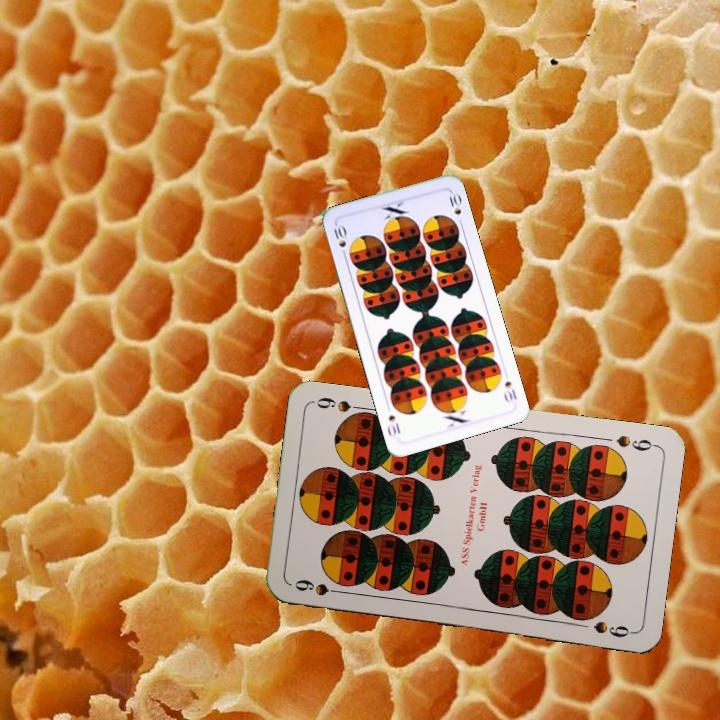S10: (330, 221, 349, 260), (501, 377, 520, 403)
S9: (290, 575, 348, 599), (612, 431, 659, 454)
